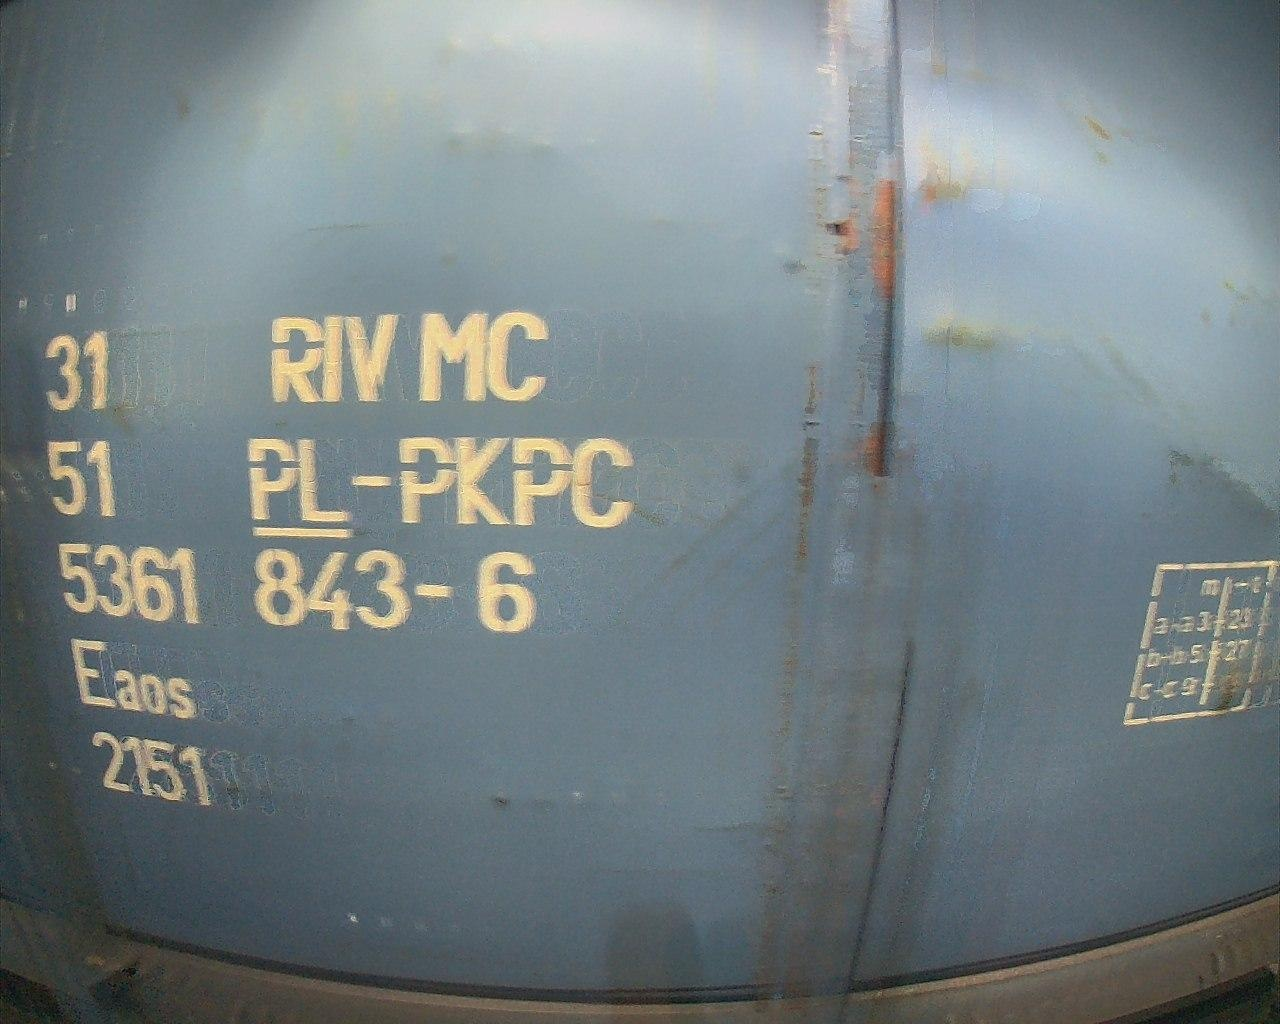UIC: (39, 307, 637, 809)
